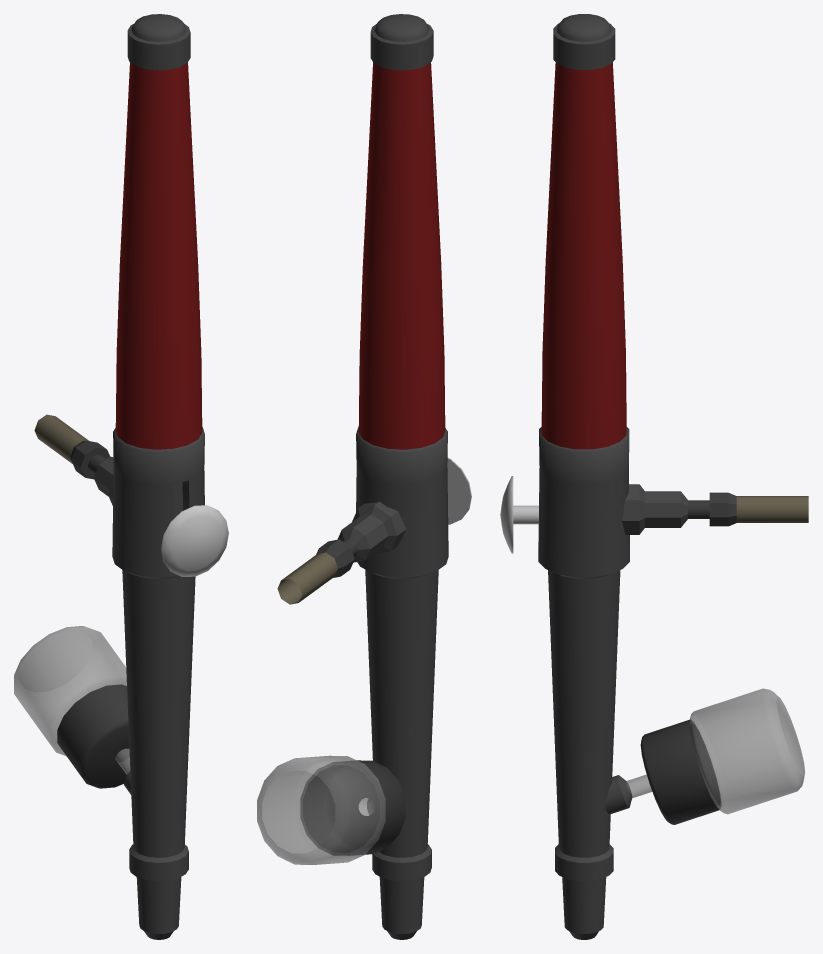
File: airbrush.obj
3 views of the same model, side by side, from view 1: azimuth 30°, elevation 25°; view 2: azimuth 150°, elevation 25°; view 3: azimuth 270°, elevation 25° (orthographic).
Parts seen in each view (by area): view 1: airbrush_Plane.048_metal_grey, airbrush_Plane.048_paint_shiny_red, airbrush_Plane.048_plastic_transparent, airbrush_Plane.048_plastic_darkgrey, airbrush_Plane.048_plastic_bright, airbrush_Plane.048_dull; view 2: airbrush_Plane.048_metal_grey, airbrush_Plane.048_paint_shiny_red, airbrush_Plane.048_plastic_transparent, airbrush_Plane.048_plastic_darkgrey, airbrush_Plane.048_dull, airbrush_Plane.048_plastic_bright; view 3: airbrush_Plane.048_metal_grey, airbrush_Plane.048_paint_shiny_red, airbrush_Plane.048_plastic_transparent, airbrush_Plane.048_plastic_darkgrey, airbrush_Plane.048_dull, airbrush_Plane.048_plastic_bright.
Part boxes in pixels (bbox=[...]): airbrush_Plane.048_metal_grey: bbox=[94, 14, 204, 939]; airbrush_Plane.048_paint_shiny_red: bbox=[115, 62, 202, 449]; airbrush_Plane.048_plastic_transparent: bbox=[14, 626, 130, 774]; airbrush_Plane.048_plastic_darkgrey: bbox=[57, 440, 129, 788]; airbrush_Plane.048_plastic_bright: bbox=[161, 505, 228, 576]; airbrush_Plane.048_dull: bbox=[34, 414, 88, 463]; airbrush_Plane.048_metal_grey: bbox=[337, 14, 448, 939]; airbrush_Plane.048_paint_shiny_red: bbox=[358, 62, 445, 449]; airbrush_Plane.048_plastic_transparent: bbox=[257, 755, 385, 864]; airbrush_Plane.048_plastic_darkgrey: bbox=[300, 538, 405, 855]; airbrush_Plane.048_dull: bbox=[277, 552, 337, 604]; airbrush_Plane.048_plastic_bright: bbox=[447, 457, 471, 524]; airbrush_Plane.048_metal_grey: bbox=[538, 14, 687, 939]; airbrush_Plane.048_paint_shiny_red: bbox=[541, 62, 626, 449]; airbrush_Plane.048_plastic_transparent: bbox=[626, 688, 805, 814]; airbrush_Plane.048_plastic_darkgrey: bbox=[640, 492, 736, 824]; airbrush_Plane.048_dull: bbox=[736, 496, 808, 522]; airbrush_Plane.048_plastic_bright: bbox=[500, 476, 538, 553].
Size of the model in its own units: 1.21 by 11.23 by 3.43.
